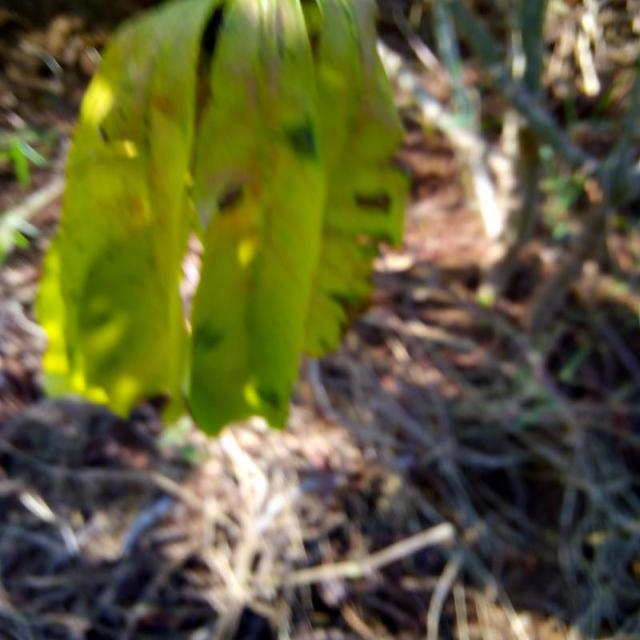cassava leaf: (35, 0, 412, 438)
